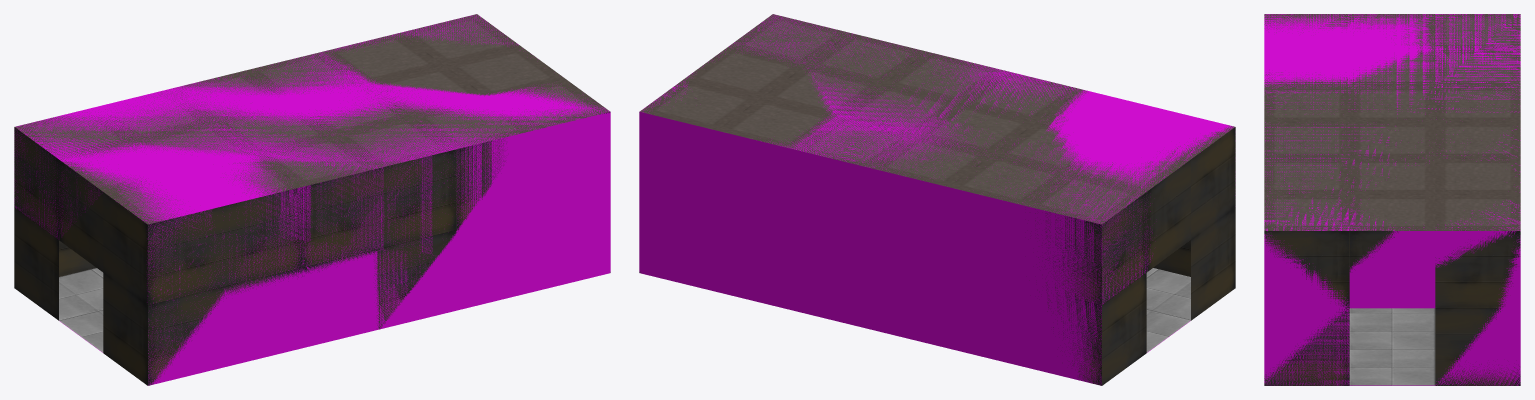
The model's file is mint_skele_room1.fbx.
3 views of the same model, side by side, from view 1: azimuth 30°, elevation 25°; view 2: azimuth 150°, elevation 25°; view 3: azimuth 270°, elevation 25° (orthographic). The views are drawn at different scales.
Parts seen in each view (by area): view 1: wall (×2), floor; view 2: wall (×2), floor; view 3: wall (×2), floor.
Boxes of the visible parts, x1=… form: wall (×2): x1=14, y1=14, x2=610, y2=385; floor: x1=59, y1=268, x2=103, y2=352; wall (×2): x1=639, y1=14, x2=1235, y2=385; floor: x1=1146, y1=268, x2=1190, y2=352; wall (×2): x1=1264, y1=14, x2=1520, y2=385; floor: x1=1349, y1=308, x2=1435, y2=385.
Bounding box in the file's own units: 90 × 30 × 45.
